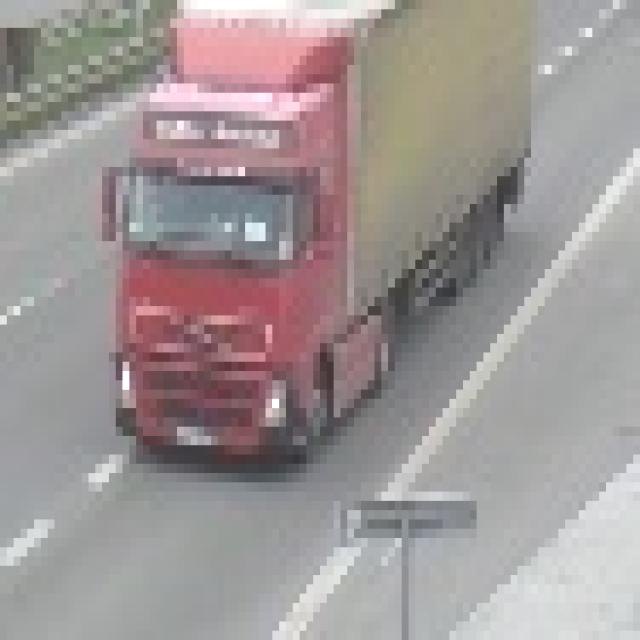TRUCK: (112, 0, 528, 456)
